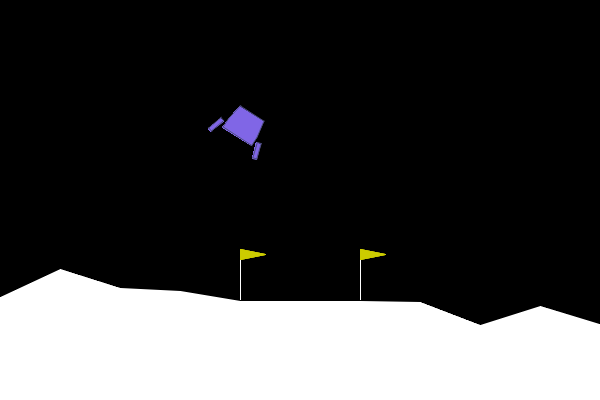lander: (206, 96, 278, 162)
